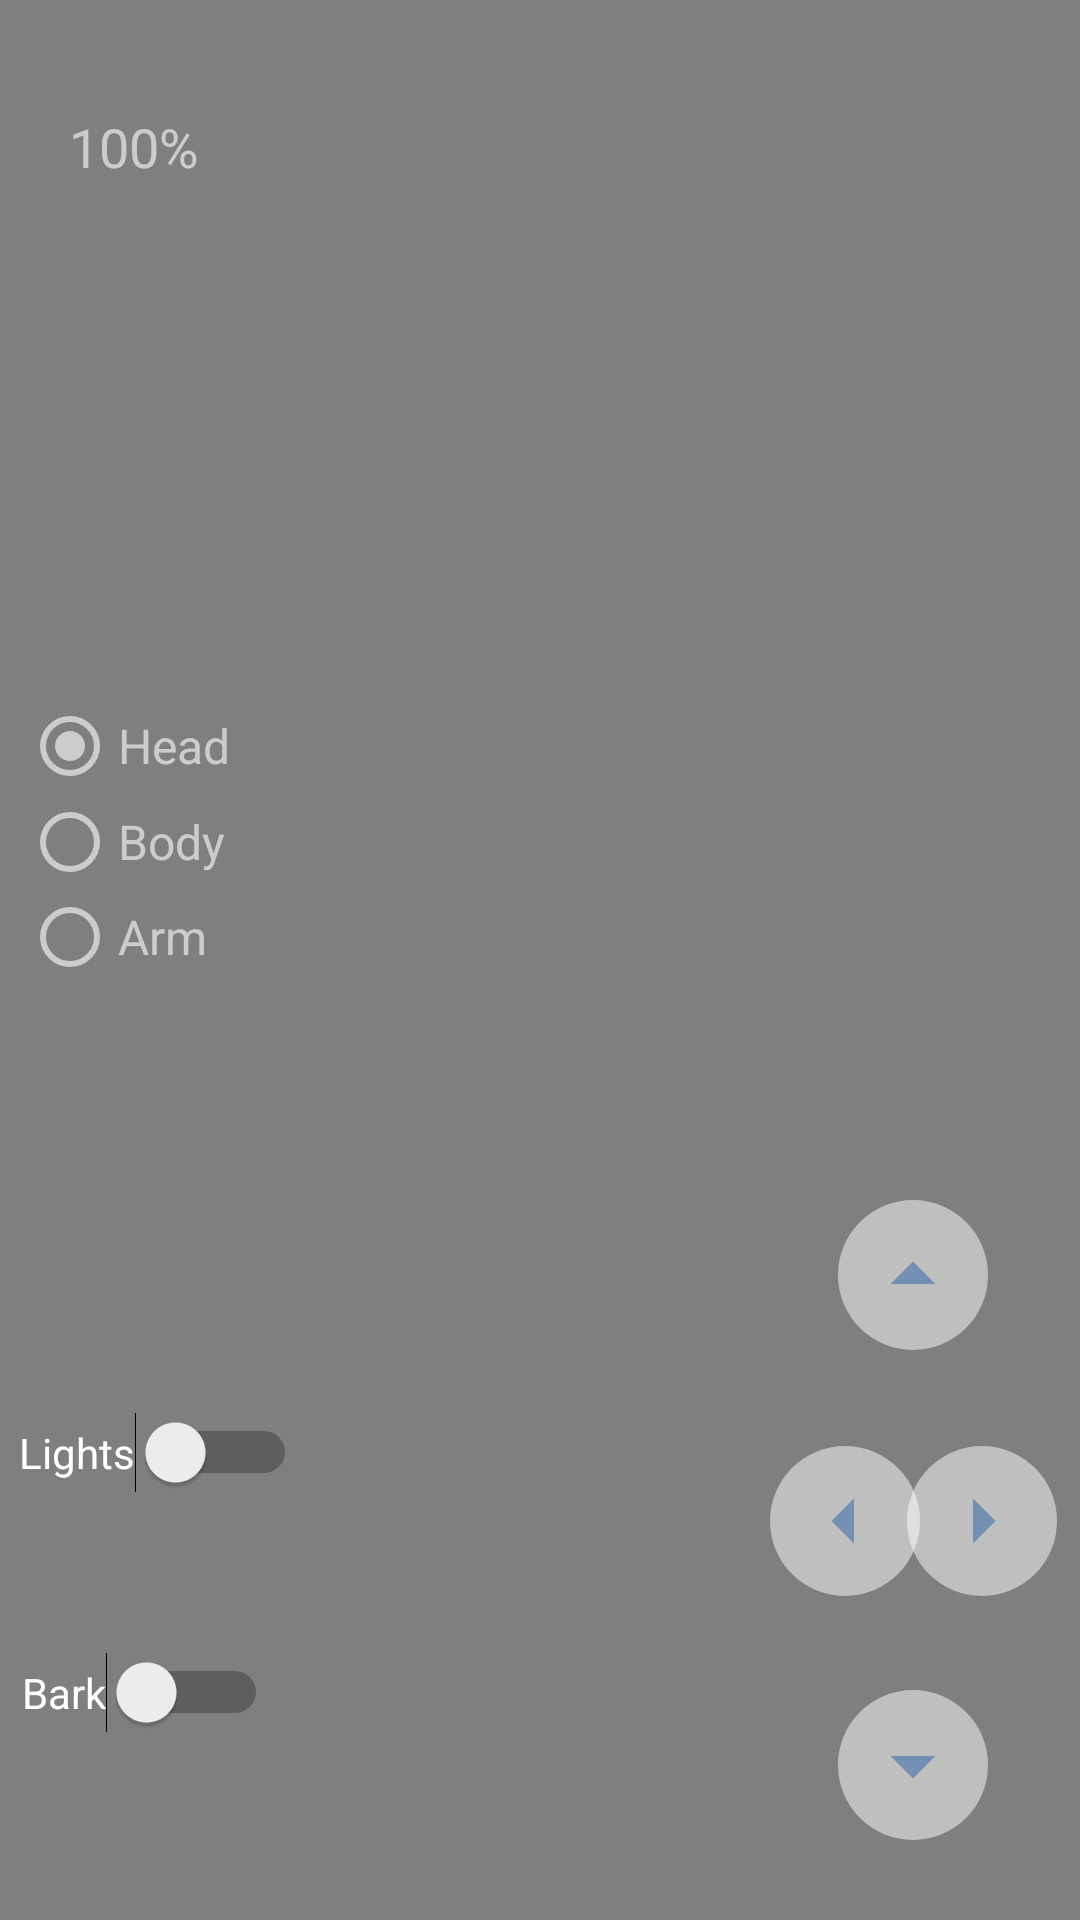

Icons on this 1080w x 1920h Android screen, each with its box as [x1, y1, x2, y2]:
arrow down: [838, 1690, 988, 1840]
arrow left: [770, 1446, 920, 1596]
arrow right: [907, 1446, 1057, 1596]
arrow up: [838, 1200, 988, 1350]
